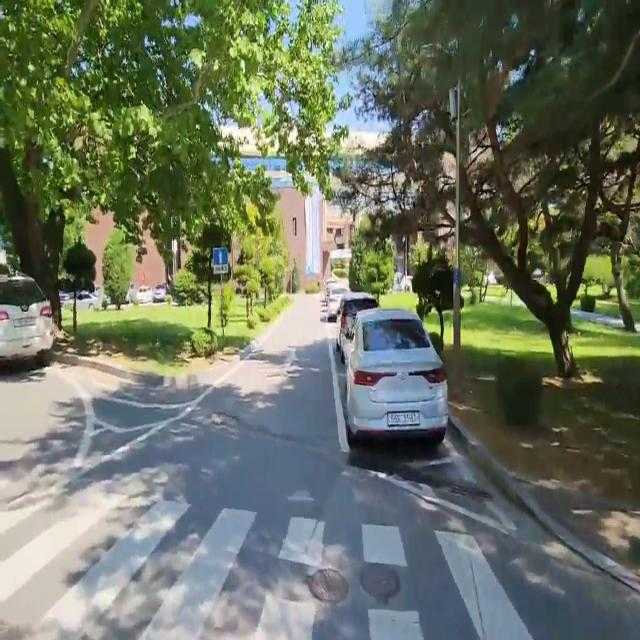car: (342, 301, 454, 477), (0, 263, 59, 388)
streetlamp: (420, 32, 478, 410)
